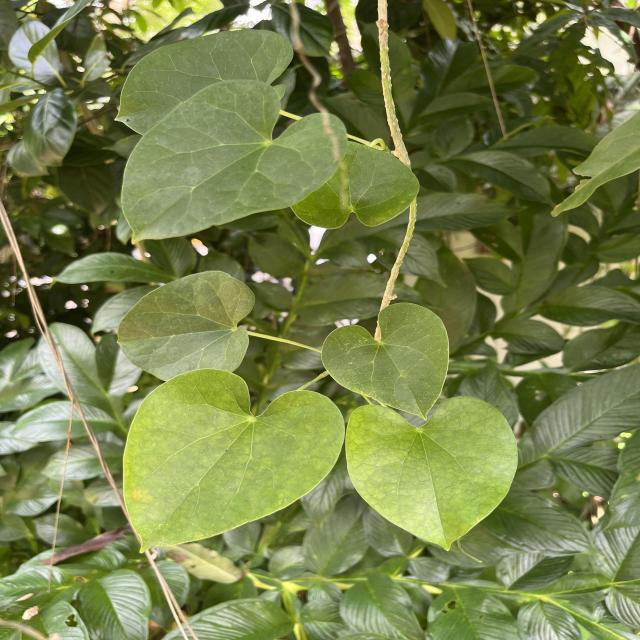Tinospora cordifolia: (121, 364, 347, 556), (119, 76, 353, 247), (342, 392, 520, 554), (113, 268, 260, 382), (320, 300, 452, 423)
